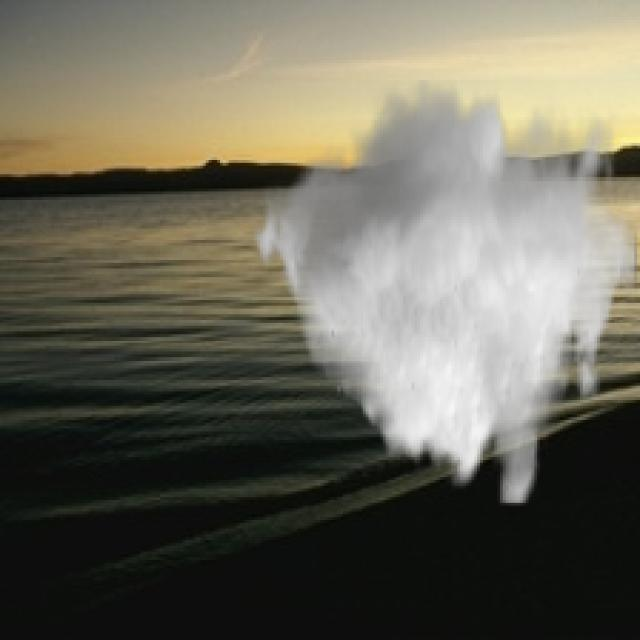smoke: (246, 80, 637, 506)
